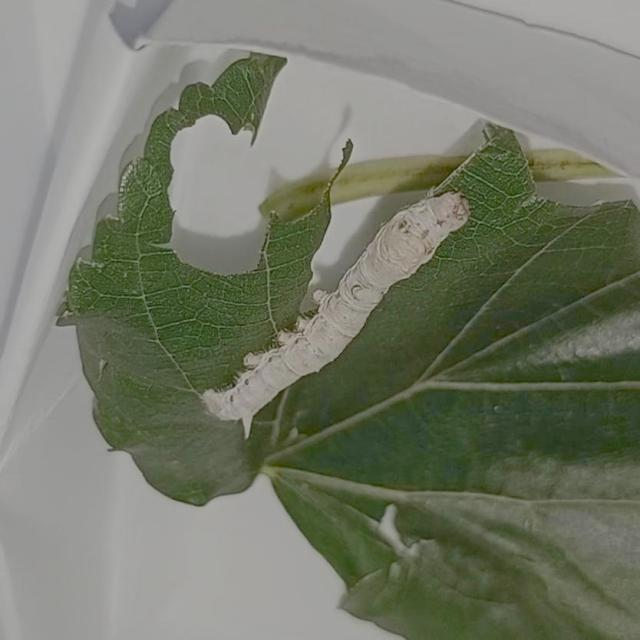Healthy: (169, 161, 517, 458)
